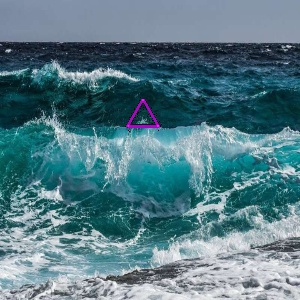triangle: (123, 96, 161, 130)
